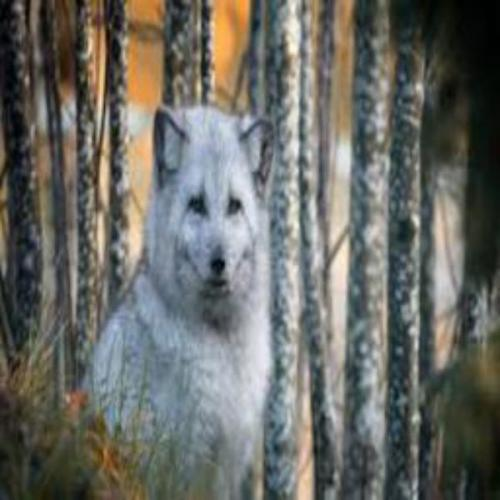arctic_fox-endangered: (88, 102, 280, 483)
